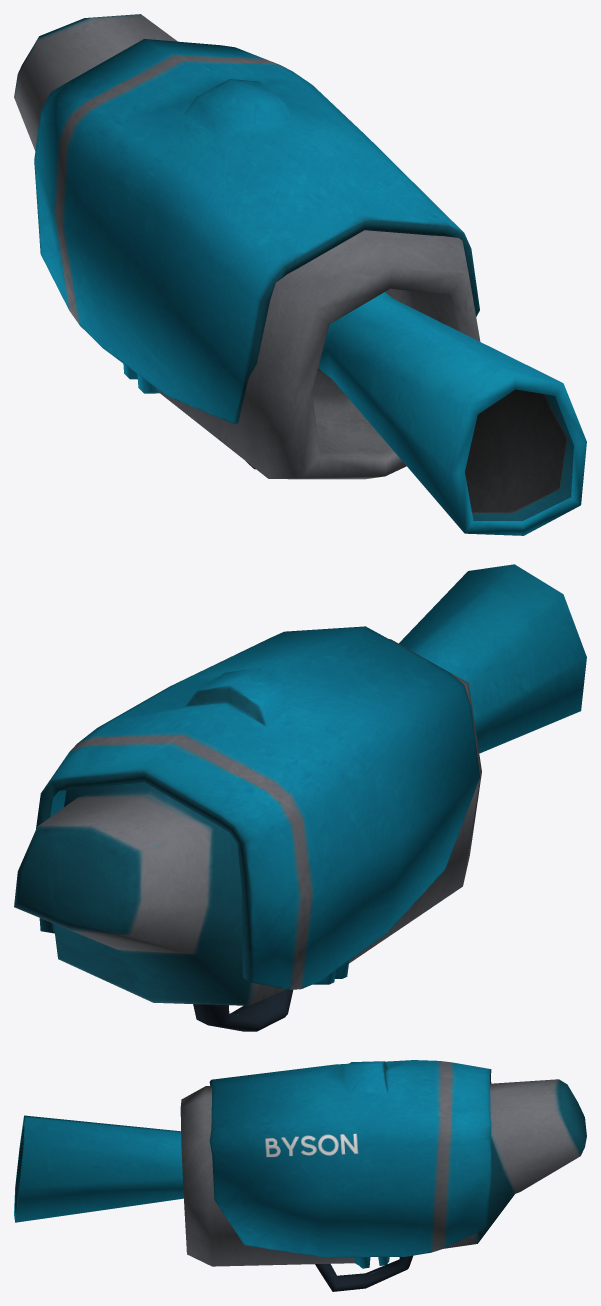
Rendered from digersüpürge3 (1).fbx.
3 views of the same model, one above another, from view 1: azimuth 30°, elevation 25°; view 2: azimuth 150°, elevation 25°; view 3: azimuth 270°, elevation 25° (orthographic). The views are drawn at different scales.
Visible parts, largest first — view 1: Cube.004; view 2: Cube.004; view 3: Cube.004.
Boxes of the visible parts, x1=… form: Cube.004: x1=14, y1=14, x2=586, y2=535; Cube.004: x1=14, y1=564, x2=586, y2=1031; Cube.004: x1=14, y1=1060, x2=586, y2=1291.
Bounding box in the file's own units: 24.48 × 33.73 × 77.63.
3 materials, 3 textured.
